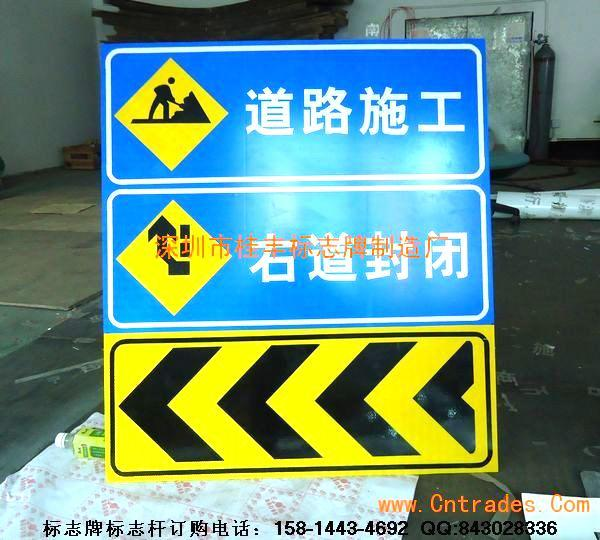sign: (103, 45, 493, 476)
